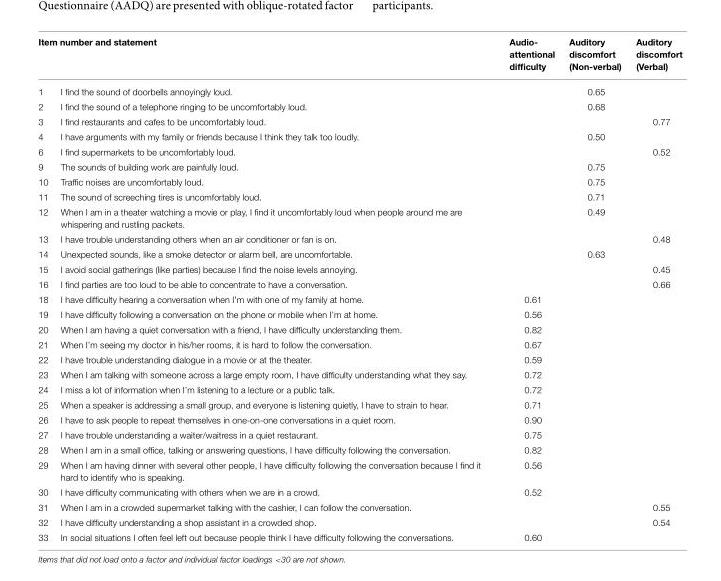table: (37, 37, 681, 541)
table column: (53, 37, 494, 541), (494, 37, 561, 541), (561, 37, 627, 541), (627, 37, 681, 541), (37, 37, 53, 541)
table column header: (37, 37, 681, 99)
table row: (37, 37, 681, 78), (37, 204, 681, 231), (37, 457, 681, 484), (37, 78, 681, 99), (37, 306, 681, 322), (37, 99, 681, 114), (37, 114, 681, 129), (37, 129, 681, 144), (37, 144, 681, 159), (37, 159, 681, 174), (37, 174, 681, 189), (37, 189, 681, 204), (37, 231, 681, 246), (37, 246, 681, 261), (37, 261, 681, 276), (37, 276, 681, 291), (37, 291, 681, 306), (37, 322, 681, 337), (37, 337, 681, 352), (37, 352, 681, 367), (37, 367, 681, 382), (37, 382, 681, 397), (37, 397, 681, 412), (37, 412, 681, 427), (37, 427, 681, 442), (37, 442, 681, 457), (37, 484, 681, 499), (37, 499, 681, 514), (37, 514, 681, 529), (37, 529, 681, 541)
table spanning cell: (37, 37, 494, 78), (494, 37, 561, 99), (561, 37, 627, 99), (627, 37, 681, 99)
